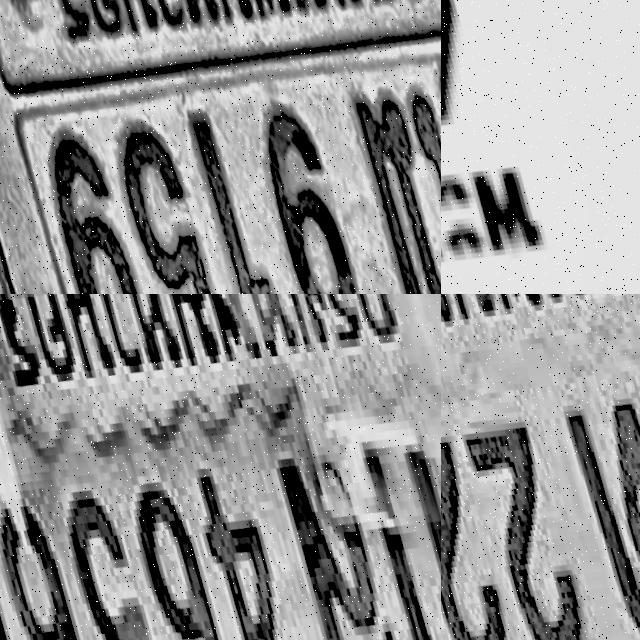license-plate: (0, 294, 441, 640), (0, 0, 441, 294), (441, 294, 640, 640), (441, 0, 640, 294)
